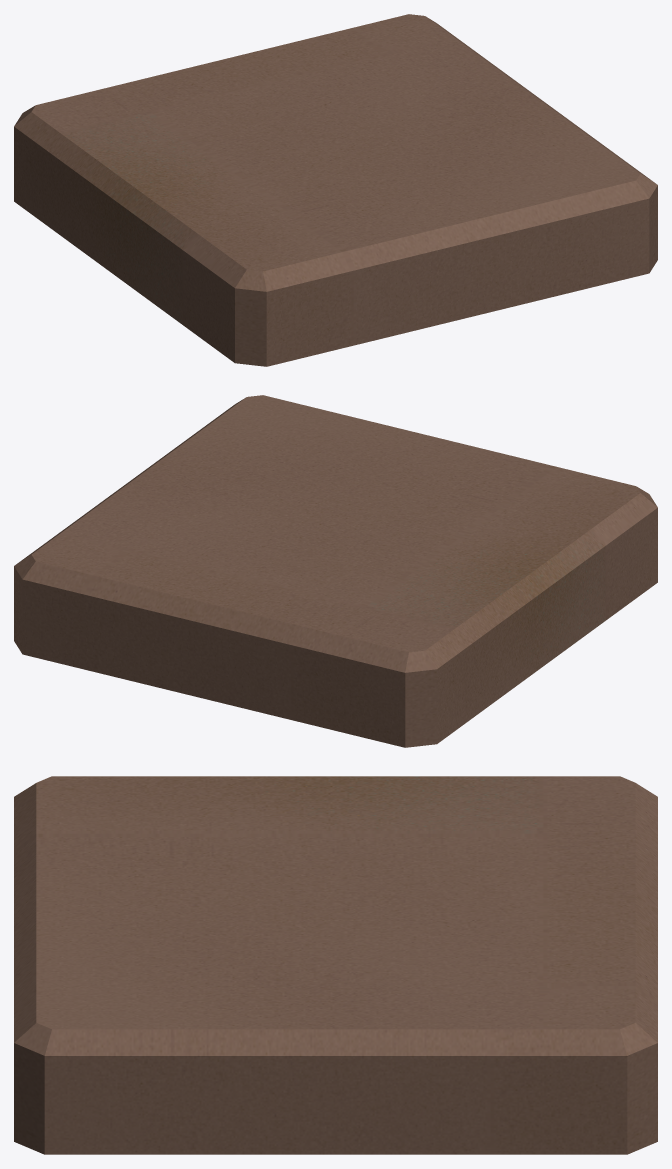
File: boxtop.fbx
The picture shows the model from 3 angles, top to bottom: view 1: azimuth 30°, elevation 25°; view 2: azimuth 150°, elevation 25°; view 3: azimuth 270°, elevation 25°; orthographic projection. The views are drawn at different scales.
Parts seen in each view (by area): view 1: pCube2; view 2: pCube2; view 3: pCube2.
Boxes of the visible parts, left/top/right/bottom form: pCube2: left=14, top=14, right=657, bottom=366; pCube2: left=14, top=395, right=657, bottom=747; pCube2: left=14, top=776, right=657, bottom=1154.
Size of the model in its own units: 27.24 by 27.24 by 5.41.
Materials: 1 (1 with a texture image).
